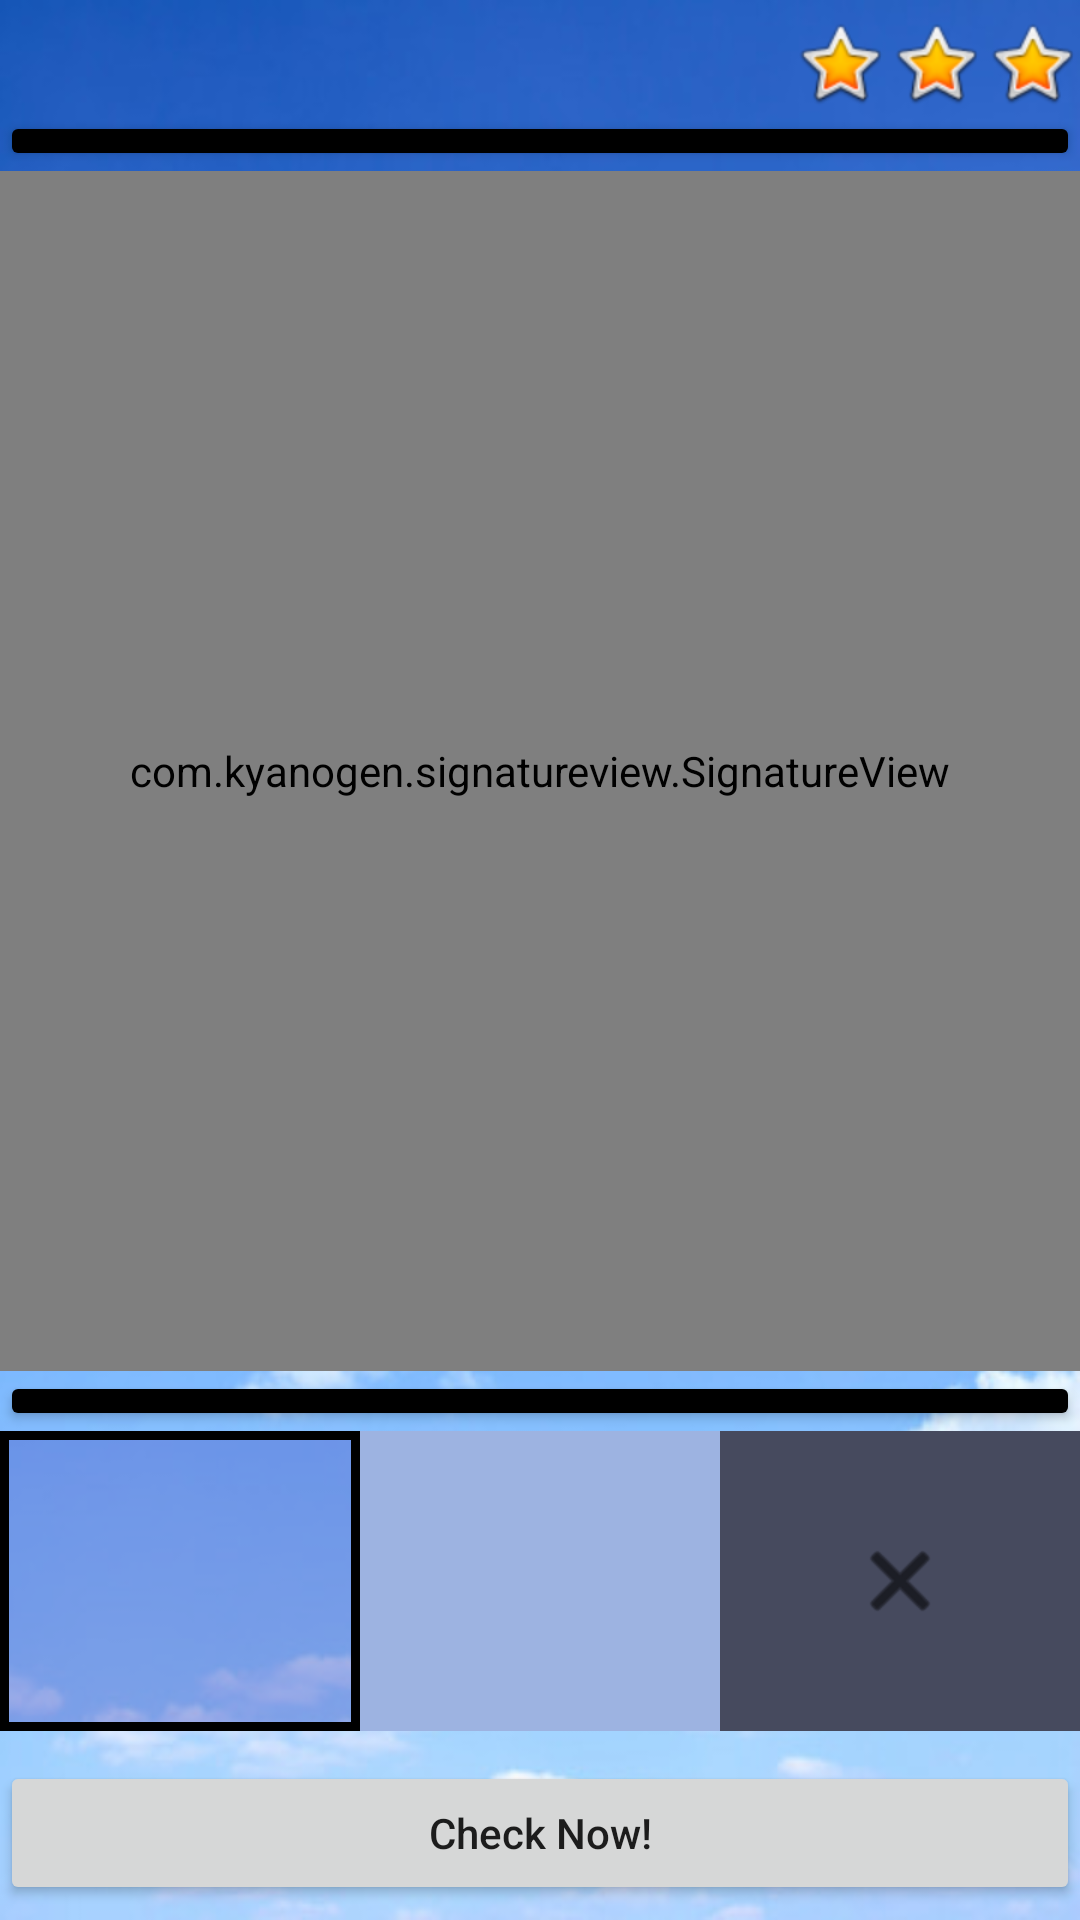

Icon click points for this 1080x1920 phone screenshot, format (x=x, y=y):
star on: (x=841, y=63), (x=937, y=63), (x=1033, y=63)
